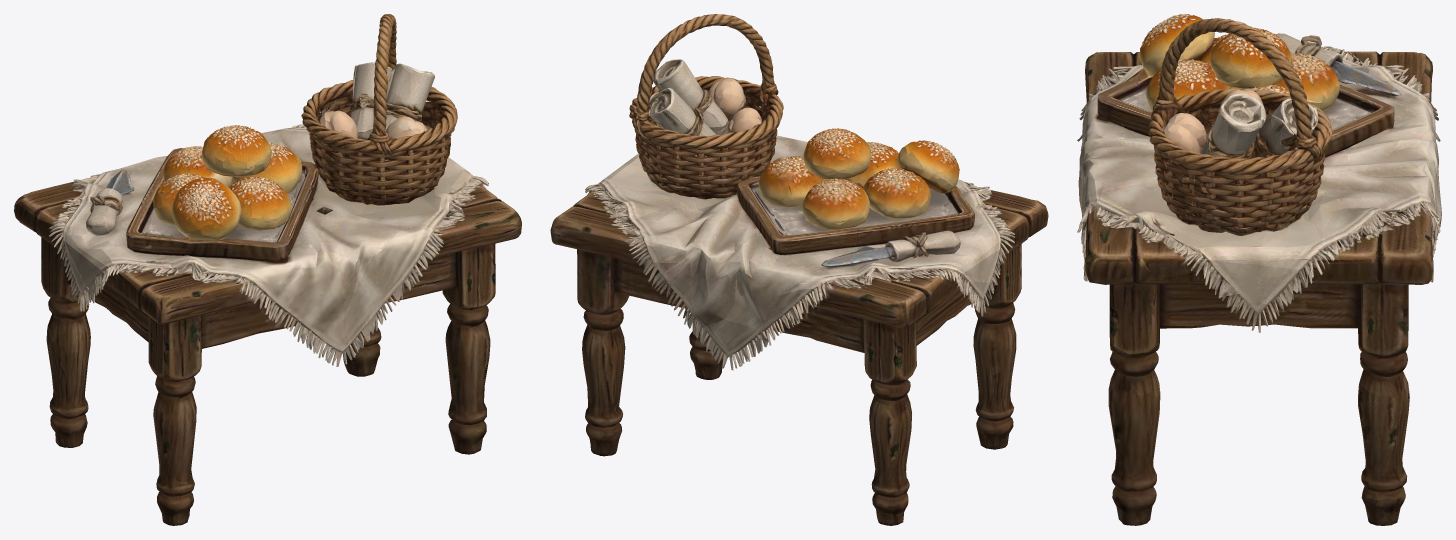
File: table.glb
3 renders of one model, left to right at view 1: azimuth 30°, elevation 25°; view 2: azimuth 150°, elevation 25°; view 3: azimuth 270°, elevation 25°, orthographic. The views are drawn at different scales.
Visible parts, largest first — view 1: Mesh_0; view 2: Mesh_0; view 3: Mesh_0.
Boxes of the visible parts, <box> form: Mesh_0: <box>14,14,521,525</box>; Mesh_0: <box>550,14,1048,525</box>; Mesh_0: <box>1077,14,1441,525</box>.
Bounding box in the file's own units: 1.87 × 1.9 × 1.32.
1 material, 1 textured.
